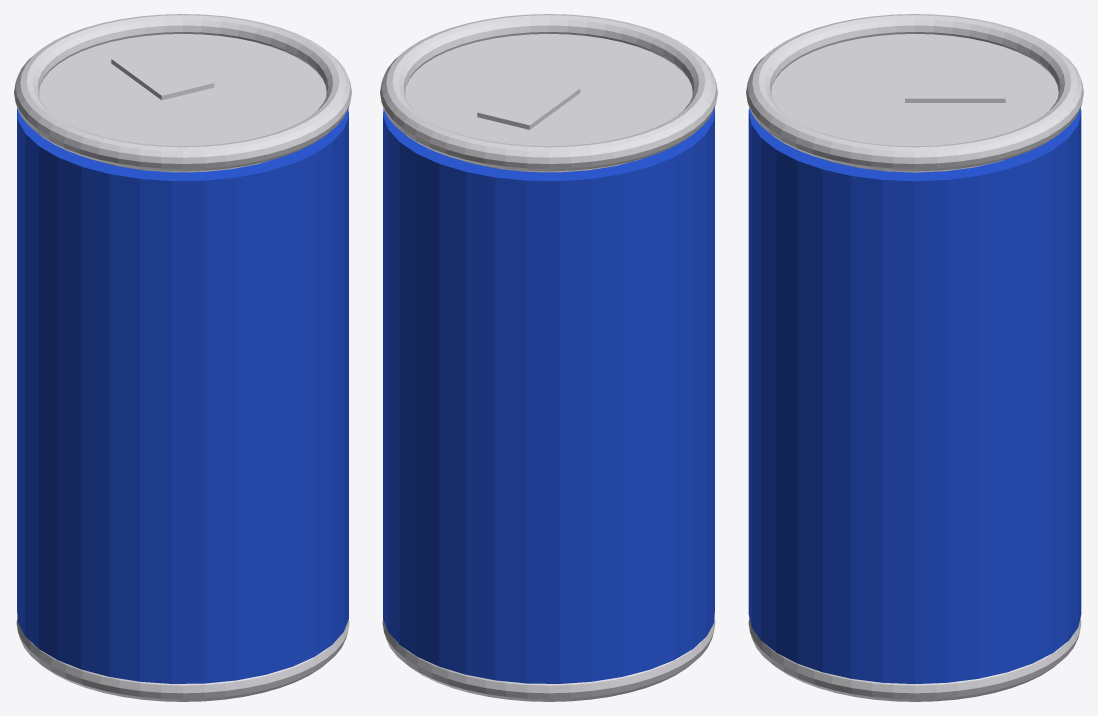
File: Grocery_Can_Soda.obj
3 views of the same model, side by side, from view 1: azimuth 30°, elevation 25°; view 2: azimuth 150°, elevation 25°; view 3: azimuth 270°, elevation 25° (orthographic).
Parts seen in each view (by area): view 1: Cylinder, Cylinder.001, Torus, Torus.001, Cube; view 2: Cylinder, Cylinder.001, Torus, Torus.001, Cube; view 3: Cylinder, Cylinder.001, Torus, Torus.001, Cube.
Part boxes in pixels (x1=…): Cylinder: x1=17, y1=108, x2=348, y2=683; Cylinder.001: x1=39, y1=34, x2=326, y2=172; Torus: x1=14, y1=14, x2=351, y2=171; Torus.001: x1=16, y1=617, x2=349, y2=701; Cube: x1=111, y1=46, x2=214, y2=100; Cylinder: x1=383, y1=108, x2=714, y2=683; Cylinder.001: x1=405, y1=34, x2=692, y2=172; Torus: x1=380, y1=14, x2=717, y2=171; Torus.001: x1=382, y1=617, x2=715, y2=701; Cube: x1=477, y1=76, x2=580, y2=129; Cylinder: x1=748, y1=108, x2=1081, y2=683; Cylinder.001: x1=771, y1=34, x2=1058, y2=172; Torus: x1=746, y1=14, x2=1083, y2=171; Torus.001: x1=748, y1=618, x2=1081, y2=701; Cube: x1=905, y1=73, x2=1005, y2=102.
Size of the model in its own units: 0.067 by 0.1215 by 0.067.
